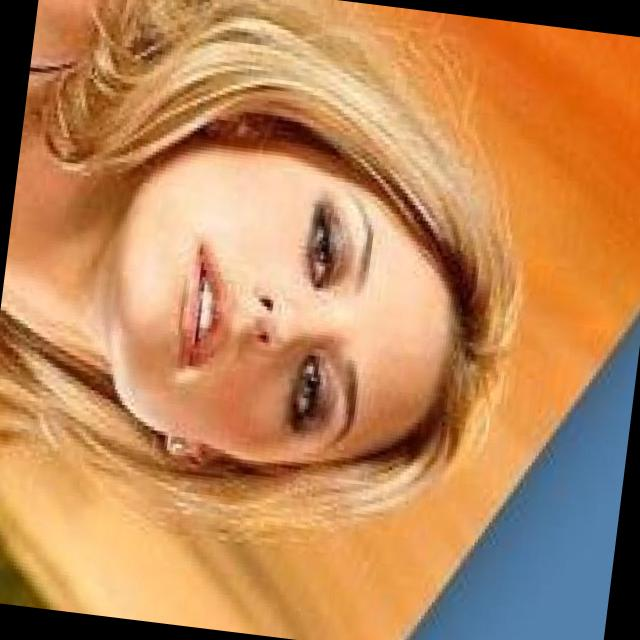bareface: (82, 92, 532, 490)
